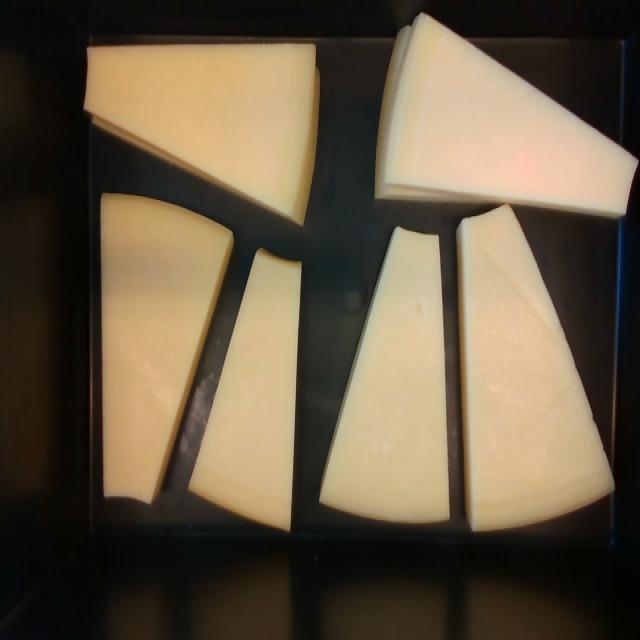cheese: (385, 15, 636, 215), (457, 209, 612, 529), (84, 45, 318, 221), (101, 193, 233, 503), (321, 228, 449, 521), (190, 251, 300, 528)
